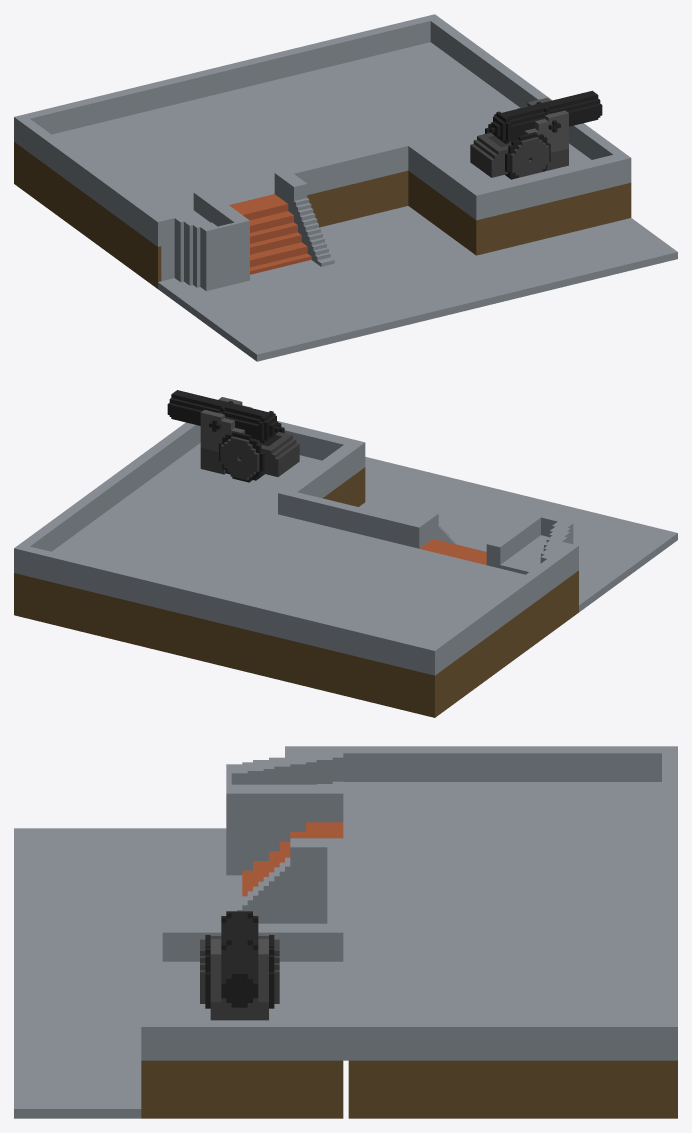
Rendered from 210515guia-3.obj.
3 views of the same model, one above another, from view 1: azimuth 30°, elevation 25°; view 2: azimuth 150°, elevation 25°; view 3: azimuth 270°, elevation 25° (orthographic). The views are drawn at different scales.
Size of the model in its own units: 12.5 by 3 by 12.5.
1 material, 1 textured.
